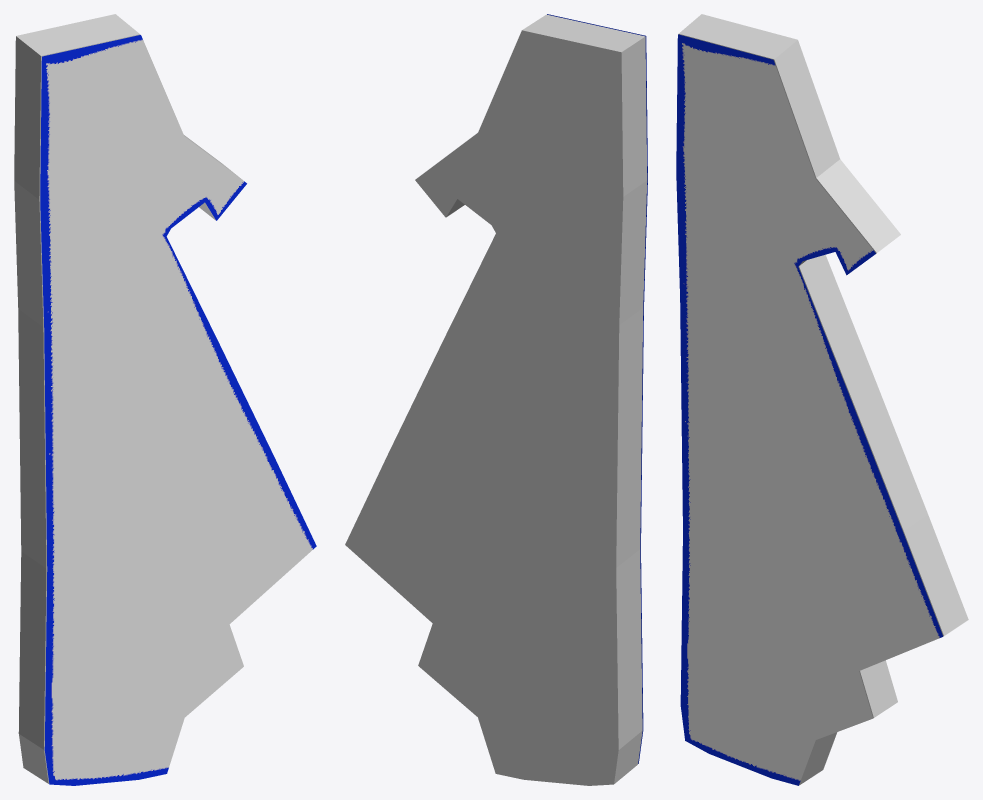
The model's file is 11_Out1_Pop-Up_book.fbx.
3 renders of one model, left to right at view 1: azimuth 30°, elevation 25°; view 2: azimuth 150°, elevation 25°; view 3: azimuth 330°, elevation 25°, orthographic. The views are drawn at different scales.
Visible parts, largest first — view 1: Out_1_0, Out_1_1; view 2: Out_1_1, Out_1_0; view 3: Out_1_0, Out_1_1.
Part boxes in pixels (box(x1,y1,x2,y2)): Out_1_0: box(40, 35, 316, 785); Out_1_1: box(14, 14, 242, 783); Out_1_1: box(345, 14, 647, 785); Out_1_0: box(547, 14, 647, 763); Out_1_0: box(676, 34, 943, 785); Out_1_1: box(678, 14, 968, 785).
Size of the model in its own units: 3.26 by 8.43 by 0.515.
2 materials, 1 textured.
